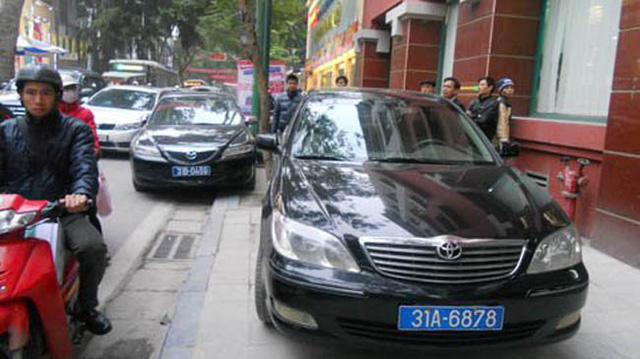plate: (395, 302, 505, 334), (170, 165, 209, 179)
